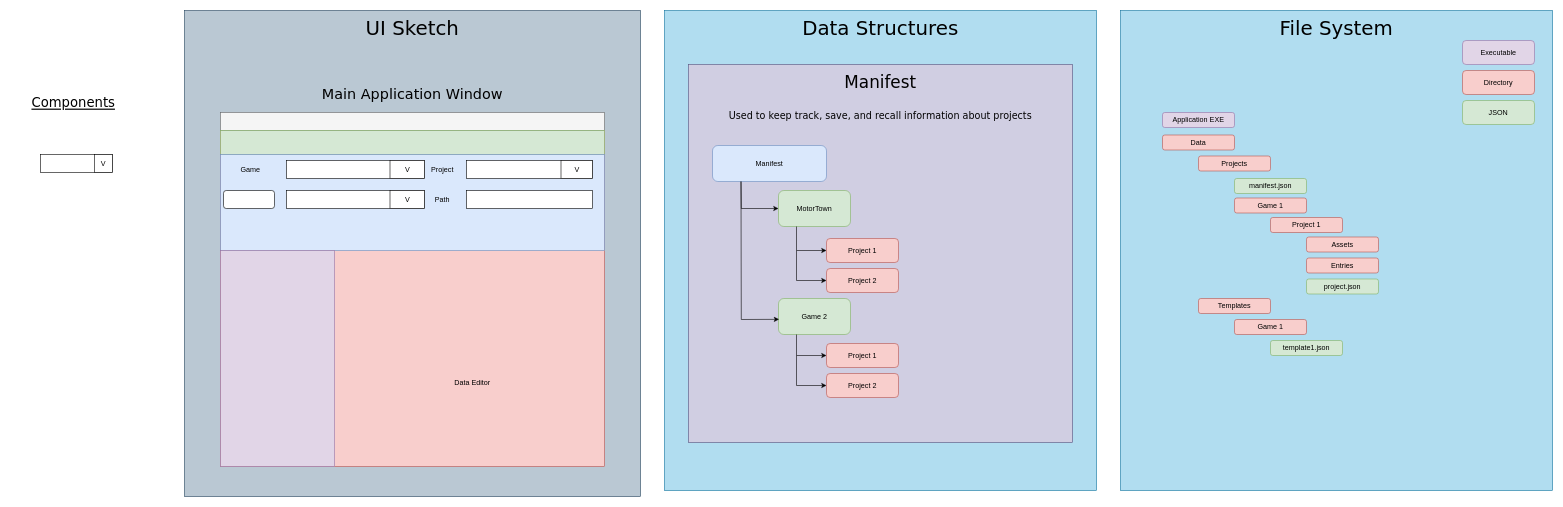
Image size: 1563x507. Some labels were removed from this diagram. Here are the shapes that lost their labels. From the top down, the box of each, then its label:
(220, 112, 604, 130): Asset Table Editor
(220, 130, 604, 154): File Edit Project
(223, 190, 274, 208): Add Entry
(220, 250, 334, 466): Data Tree
